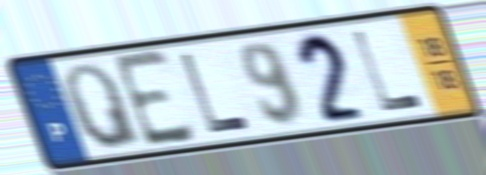2: (294, 26, 377, 131)
9: (239, 39, 306, 130)
E: (108, 45, 202, 153)
L: (348, 28, 427, 116), (176, 50, 254, 136)
Q: (62, 60, 147, 153)
